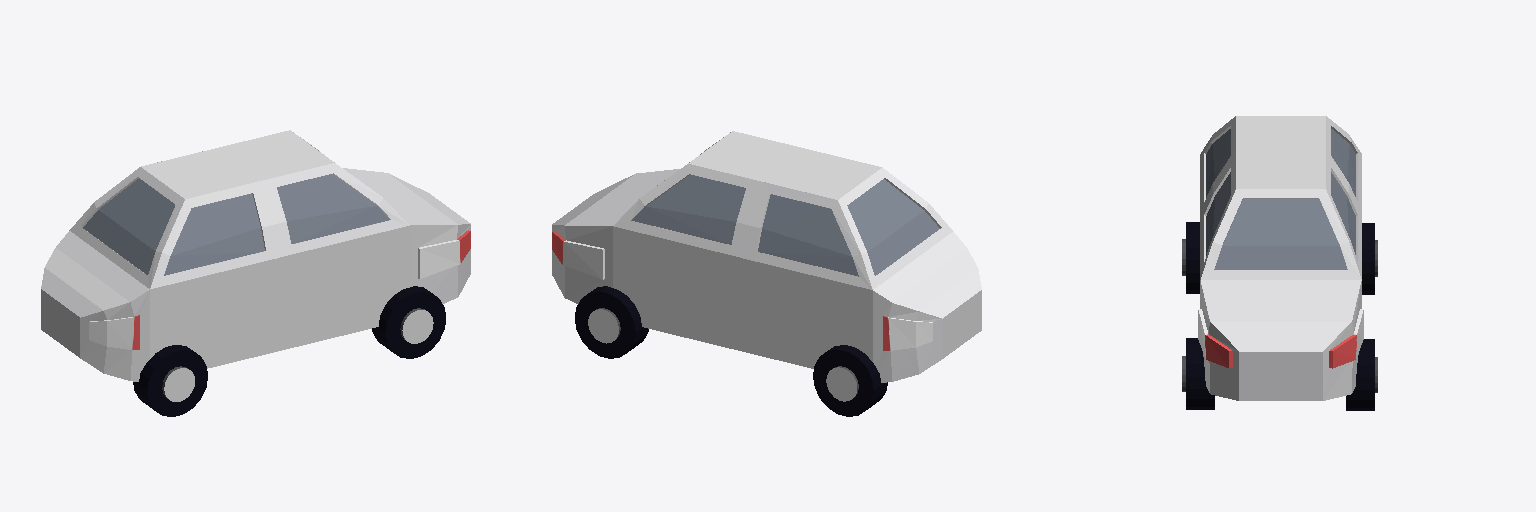
The picture shows the model from 3 angles: view 1: azimuth 30°, elevation 25°; view 2: azimuth 150°, elevation 25°; view 3: azimuth 270°, elevation 25°; orthographic projection.
Visible parts, largest first — view 1: Object147; view 2: Object147; view 3: Object147.
Part boxes in pixels (bbox=[...]): Object147: bbox=[41, 130, 470, 416]; Object147: bbox=[552, 131, 981, 416]; Object147: bbox=[1182, 116, 1377, 410].
Size of the model in its own units: 363 by 170 by 158.
Materials: 1 (1 with a texture image).